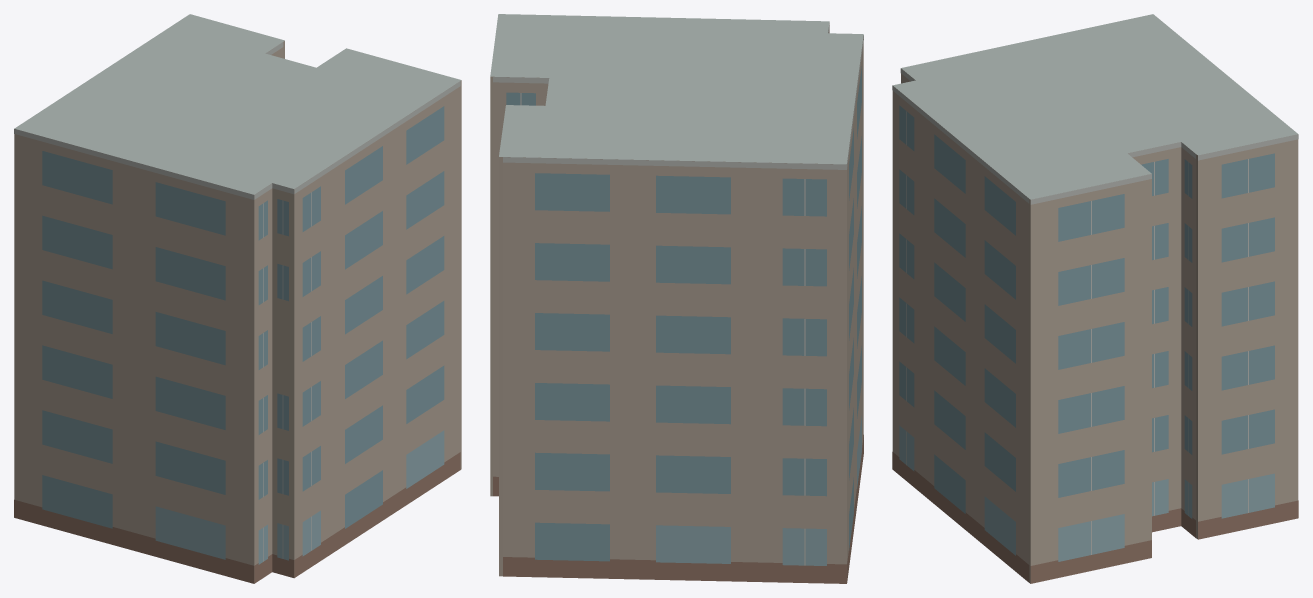
File: survey-upis-32738304.glb
3 renders of one model, left to right at view 1: azimuth 30°, elevation 25°; view 2: azimuth 150°, elevation 25°; view 3: azimuth 270°, elevation 25°, orthographic. The views are drawn at different scales.
Parts seen in each view (by area): view 1: survey-upis-32738304.tmp; view 2: survey-upis-32738304.tmp; view 3: survey-upis-32738304.tmp.
Boxes of the visible parts, x1,y1,x2,y2 form: survey-upis-32738304.tmp: (14,14,461,583); survey-upis-32738304.tmp: (490,14,863,583); survey-upis-32738304.tmp: (892,14,1298,583).
Size of the model in its own units: 18.99 by 18.3 by 17.53.
